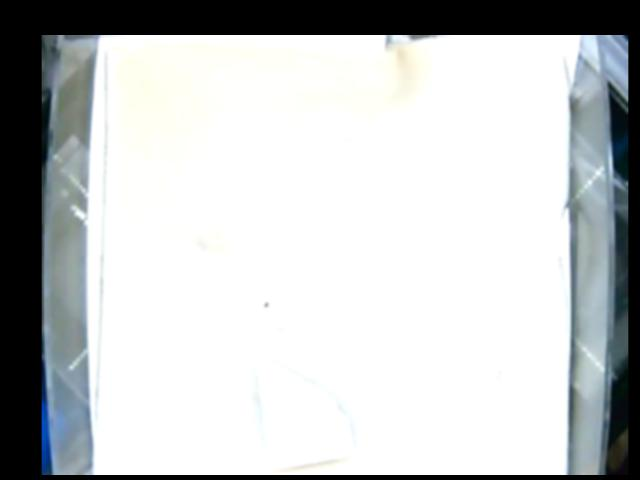China: (252, 355, 355, 471)
